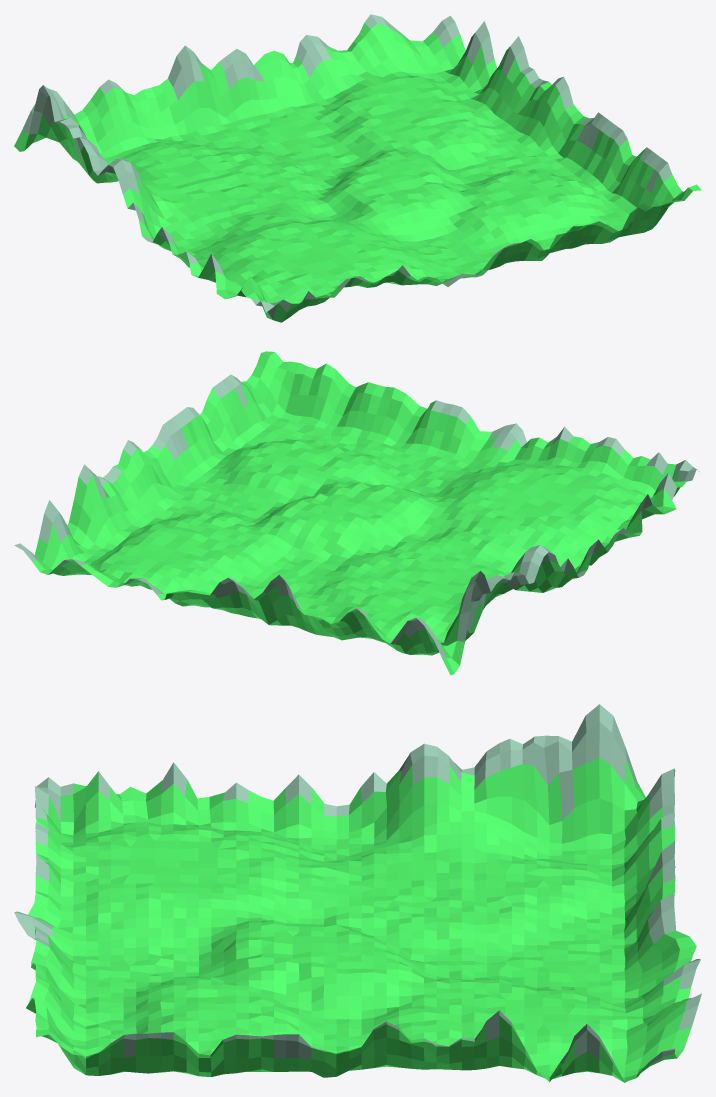
File: lowpolyterrain.glb
3 renders of one model, top to bottom at view 1: azimuth 30°, elevation 25°; view 2: azimuth 150°, elevation 25°; view 3: azimuth 270°, elevation 25°, orthographic. The views are drawn at different scales.
Visible parts, largest first — view 1: Plane; view 2: Plane; view 3: Plane.
Part boxes in pixels (x1=…): Plane: x1=14, y1=14, x2=701, y2=322; Plane: x1=14, y1=351, x2=699, y2=675; Plane: x1=14, y1=704, x2=701, y2=1082.
Bounding box in the file's own units: 20.75 × 4.22 × 21.69.
2 materials, 1 textured.
